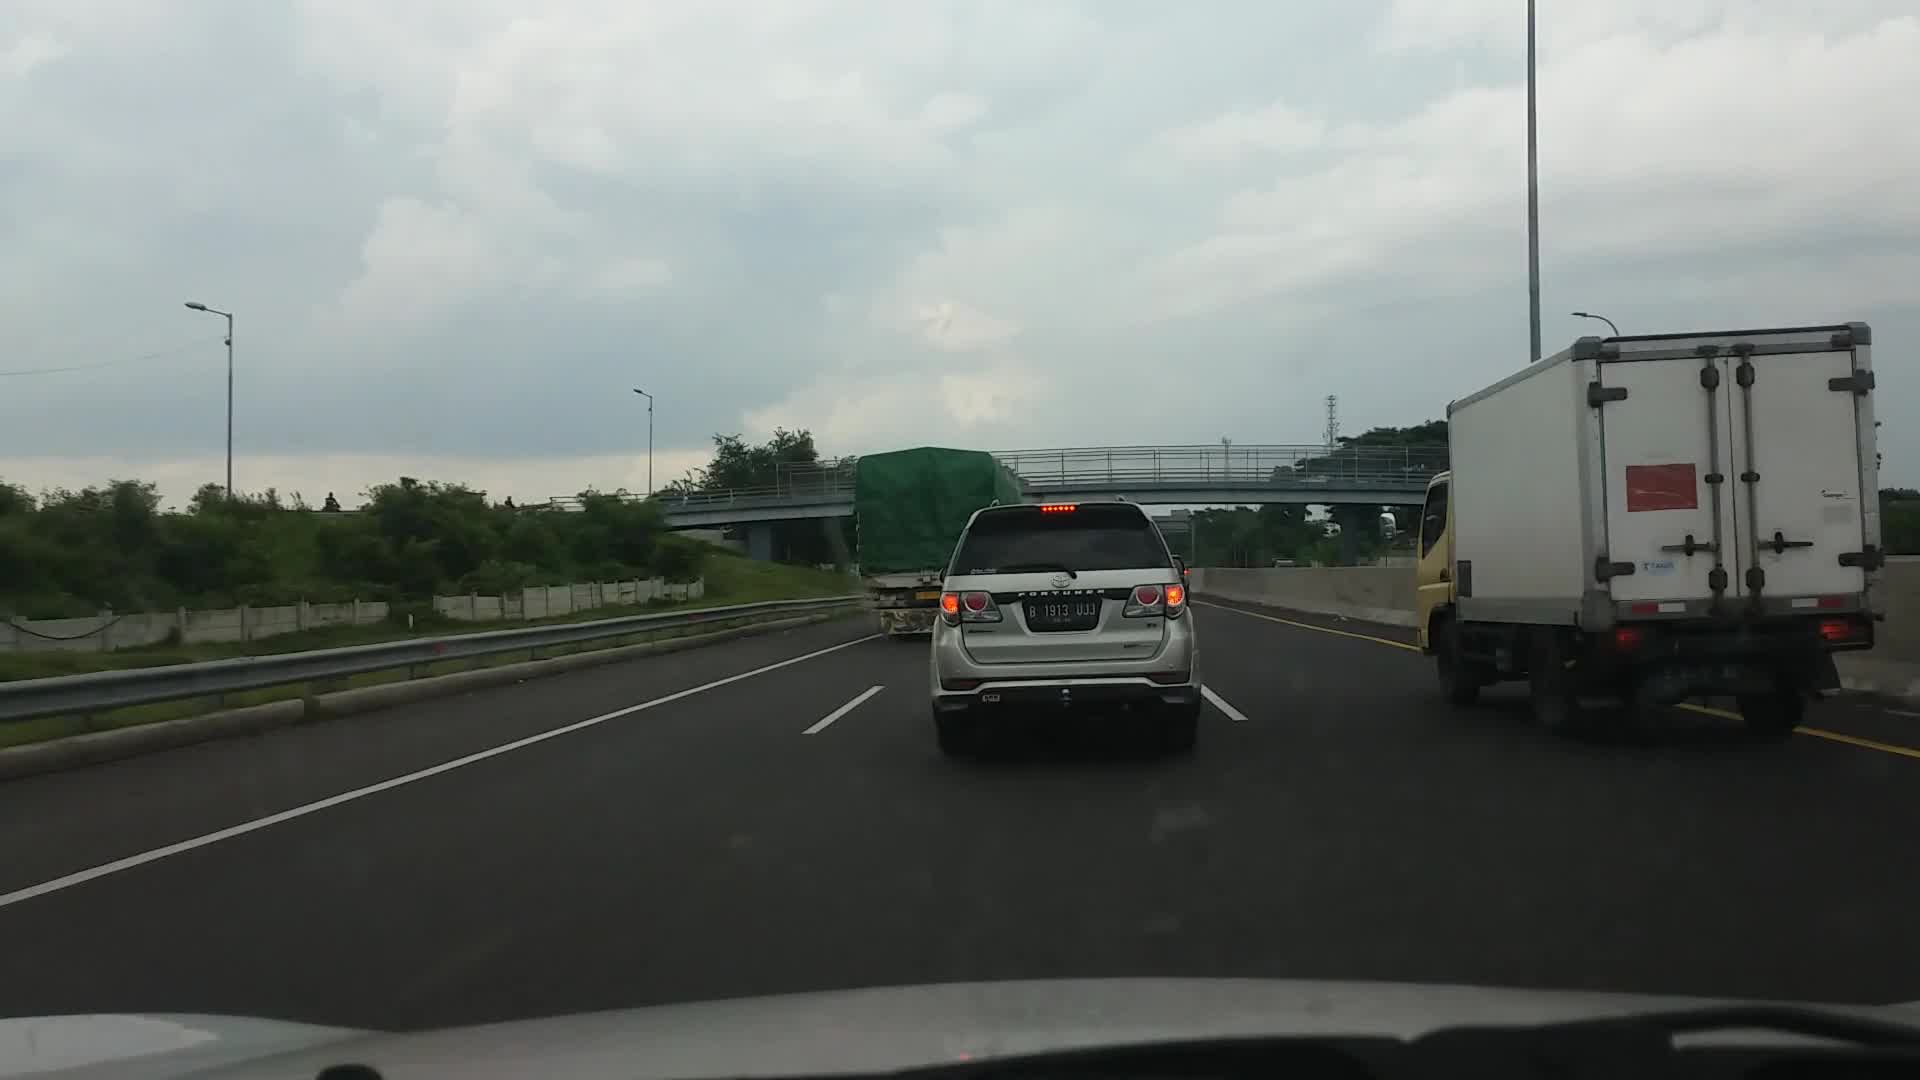plate_positive: (1026, 601, 1098, 625)
